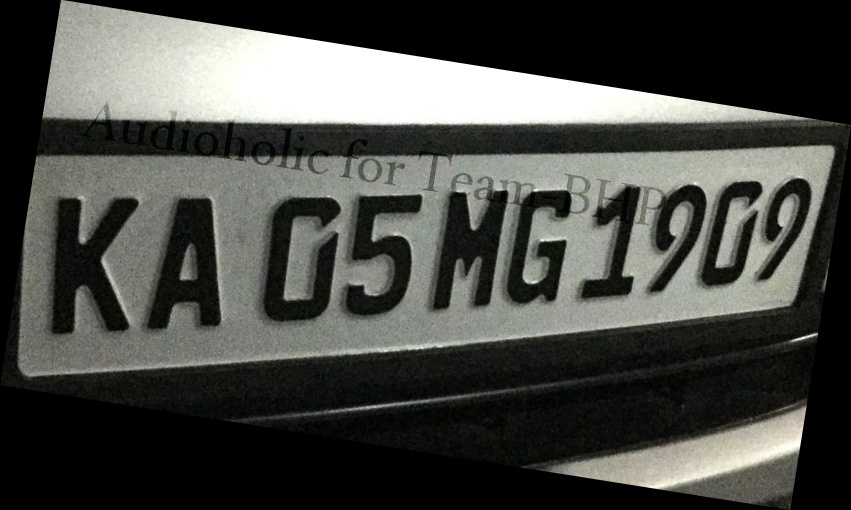character: (48, 193, 144, 335), (142, 192, 224, 333), (339, 190, 425, 319), (259, 193, 342, 324), (428, 184, 511, 312), (504, 187, 576, 309), (574, 183, 645, 301), (644, 181, 708, 298), (698, 176, 764, 289), (754, 172, 813, 289)
